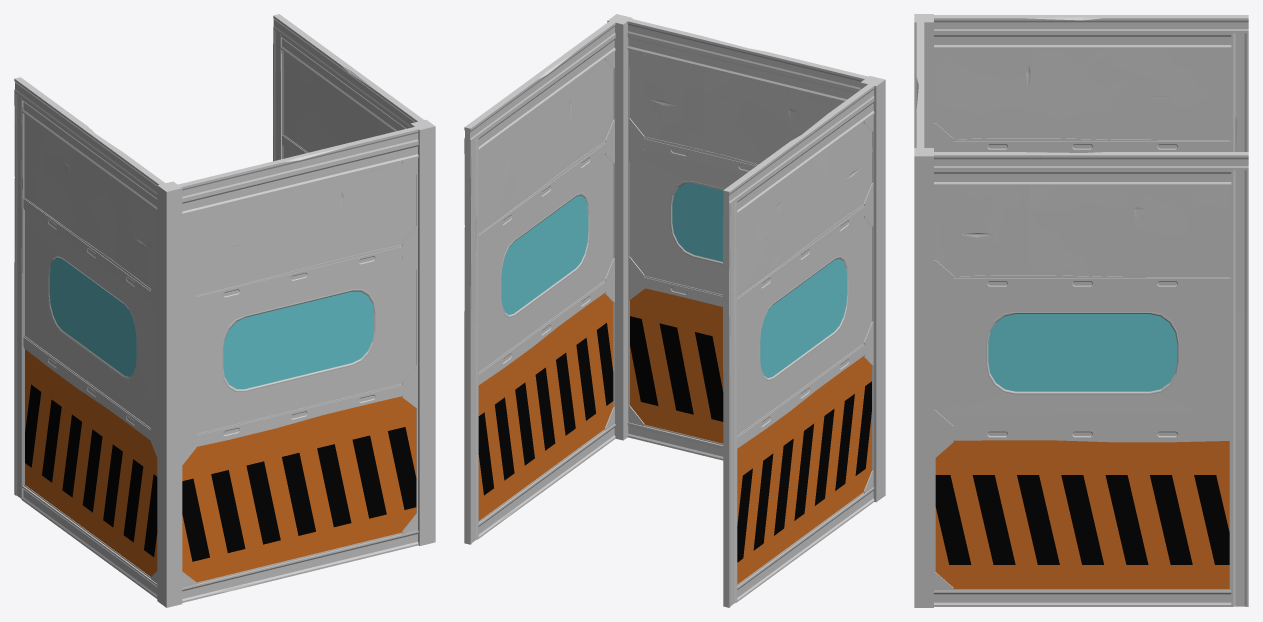
Rendered from SM_Wall_Angle_02.glb.
3 renders of one model, left to right at view 1: azimuth 30°, elevation 25°; view 2: azimuth 150°, elevation 25°; view 3: azimuth 270°, elevation 25°, orthographic. The views are drawn at different scales.
Parts seen in each view (by area): view 1: SM_Wall_Angle_02; view 2: SM_Wall_Angle_02; view 3: SM_Wall_Angle_02.
Part boxes in pixels (bbox=[...]): SM_Wall_Angle_02: bbox=[14, 14, 435, 607]; SM_Wall_Angle_02: bbox=[464, 14, 885, 607]; SM_Wall_Angle_02: bbox=[914, 14, 1248, 607].
Bounding box in the file's own units: 2.03 × 3 × 2.01.
